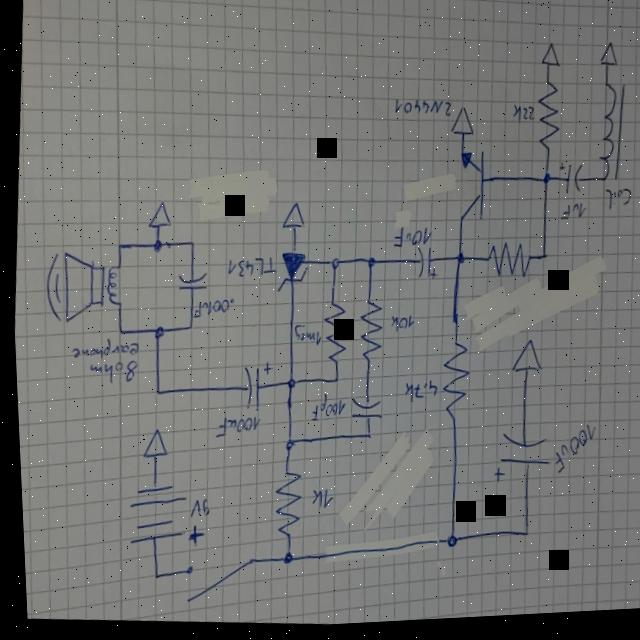capacitor: (485, 434, 549, 490), (234, 360, 272, 415), (342, 397, 381, 425), (553, 164, 581, 202), (172, 269, 208, 297), (410, 249, 437, 286)
ground: (504, 341, 541, 382), (135, 427, 166, 463), (276, 201, 304, 234), (447, 108, 474, 142), (143, 200, 170, 232), (536, 45, 559, 73), (596, 45, 618, 73)
inductor: (590, 85, 628, 191)
junction: (275, 551, 291, 569), (450, 253, 464, 273), (439, 536, 454, 554), (279, 378, 295, 394), (537, 176, 551, 193), (148, 325, 162, 341), (278, 439, 292, 455), (149, 239, 162, 254), (325, 259, 338, 274), (361, 257, 374, 272), (515, 531, 526, 545), (145, 570, 156, 584), (536, 255, 546, 266), (149, 388, 159, 399), (327, 377, 336, 388), (360, 434, 368, 443), (113, 328, 121, 337), (113, 242, 121, 251), (183, 324, 191, 332), (186, 241, 193, 249)
resistor: (432, 342, 470, 425), (532, 79, 562, 160), (265, 470, 299, 541), (316, 299, 348, 371), (350, 298, 383, 367), (480, 244, 532, 287)
source: (120, 480, 202, 553)
switch: (177, 554, 250, 609)
text: (545, 424, 595, 481), (66, 336, 135, 364), (389, 95, 451, 124), (222, 254, 275, 285), (82, 357, 134, 388), (209, 414, 259, 443), (389, 226, 432, 255), (305, 395, 344, 426), (397, 380, 438, 408), (190, 297, 231, 322), (599, 191, 631, 217), (290, 326, 321, 349), (507, 106, 535, 131), (555, 205, 585, 228), (303, 489, 330, 514), (182, 497, 207, 522), (384, 315, 412, 336)
thyristor: (273, 249, 307, 297)
transistor: (446, 148, 487, 231)
